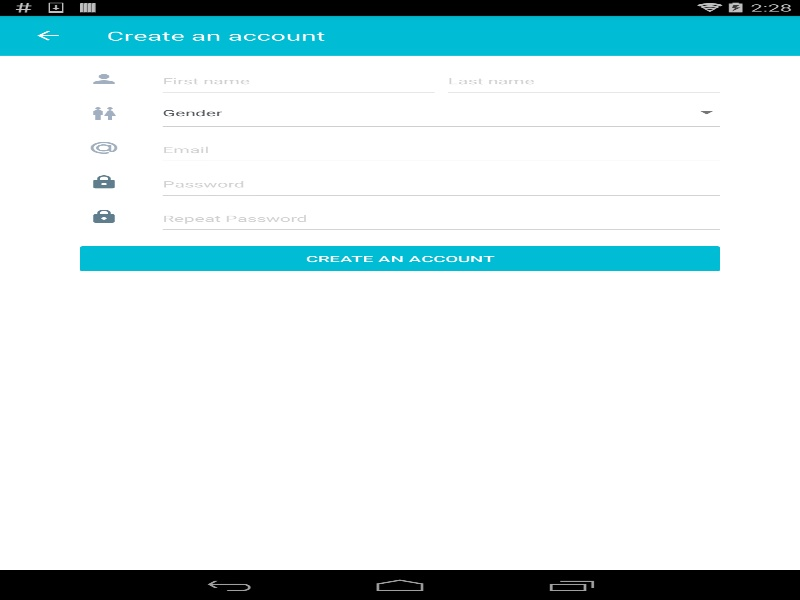Button: (80, 246, 720, 271), (10, 15, 85, 55)
Input: (162, 163, 720, 190), (162, 129, 720, 155), (162, 198, 720, 224), (162, 60, 434, 86), (448, 60, 720, 86)
